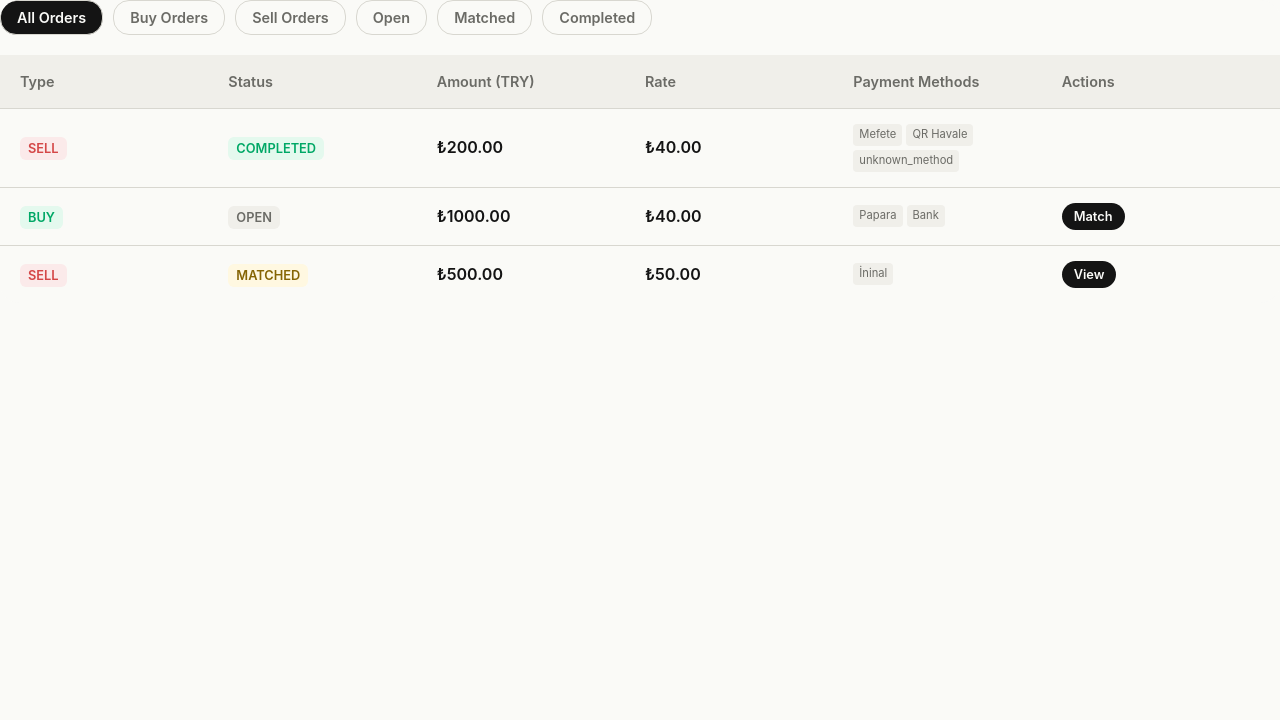
it: OrderBook › cancelling the confirm dialog does not match
Click the button "Match" at (1093, 216), box [1062,203,1124,230]
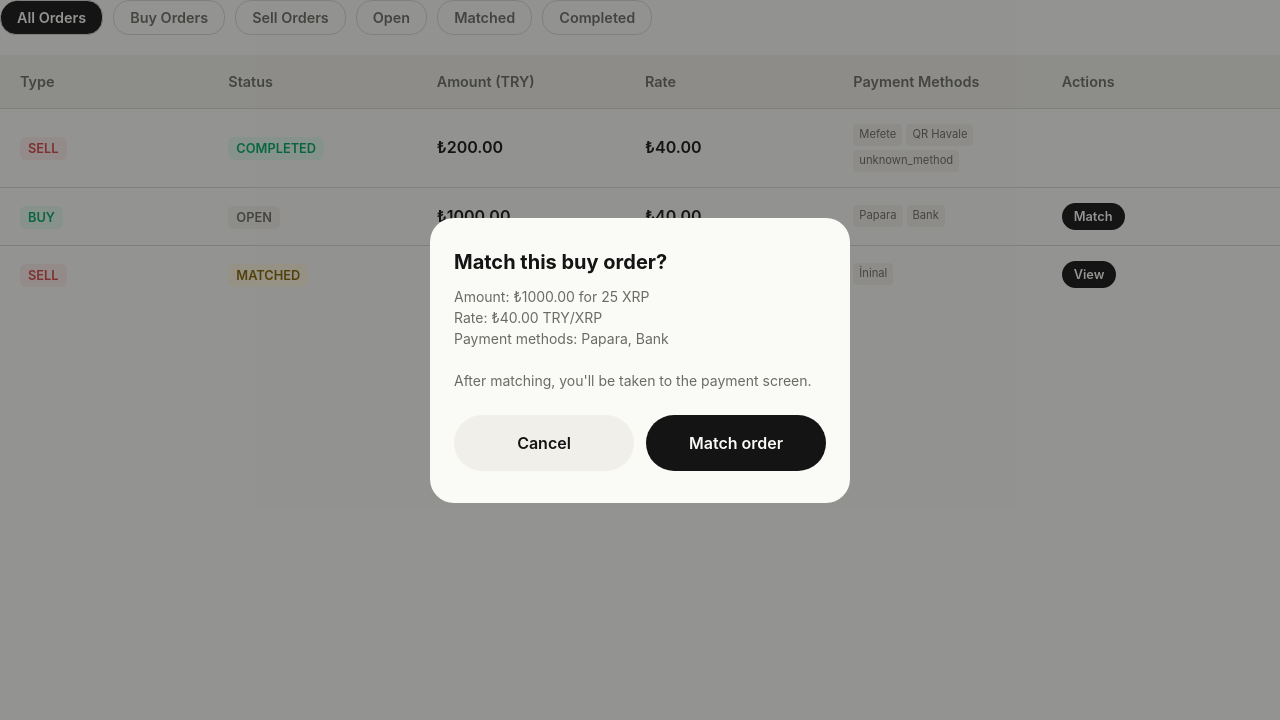
Click the button "Cancel" at (544, 442), box [454,414,634,470]
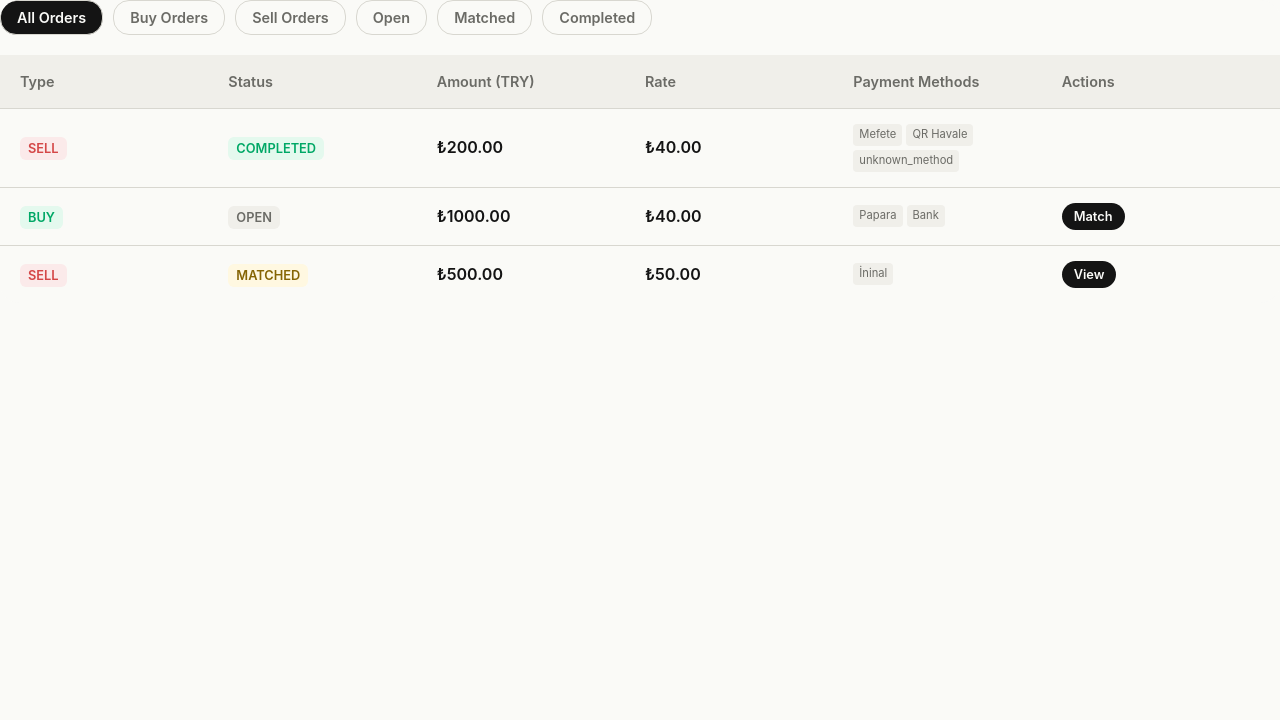
Now the heading "Match this buy order?" is gone
